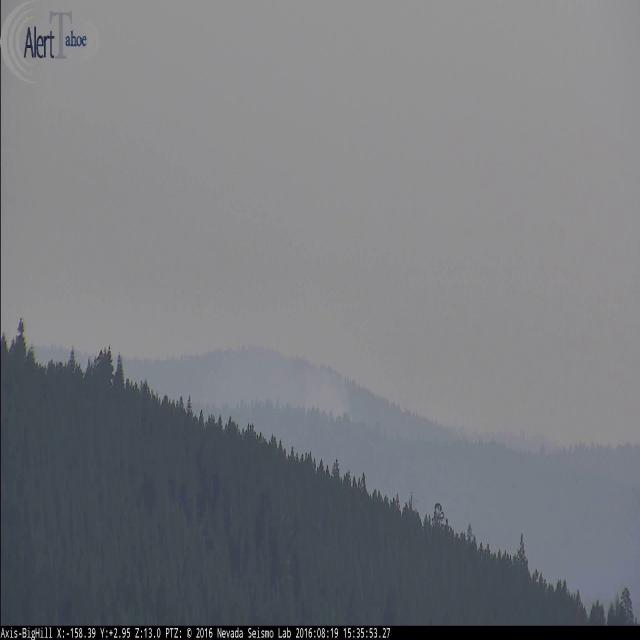smoke: (195, 326, 354, 424)
